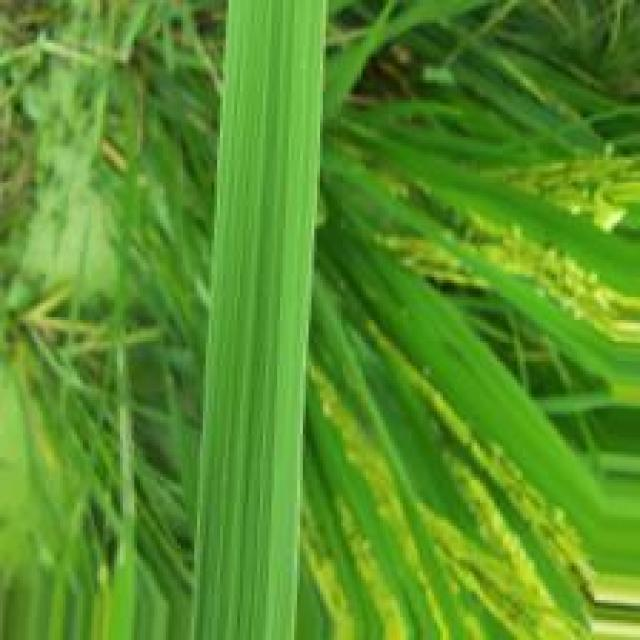HealthyLeaf: (190, 4, 326, 638)
